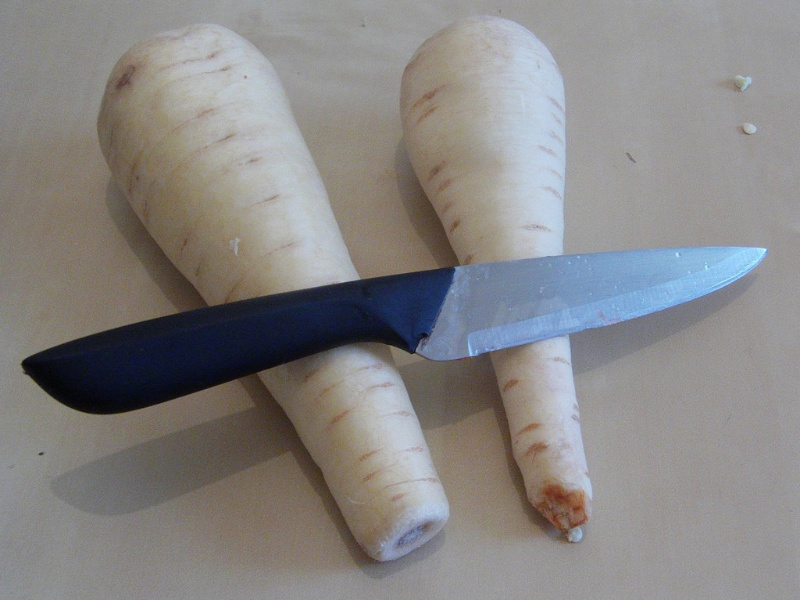knife: (19, 242, 774, 416)
